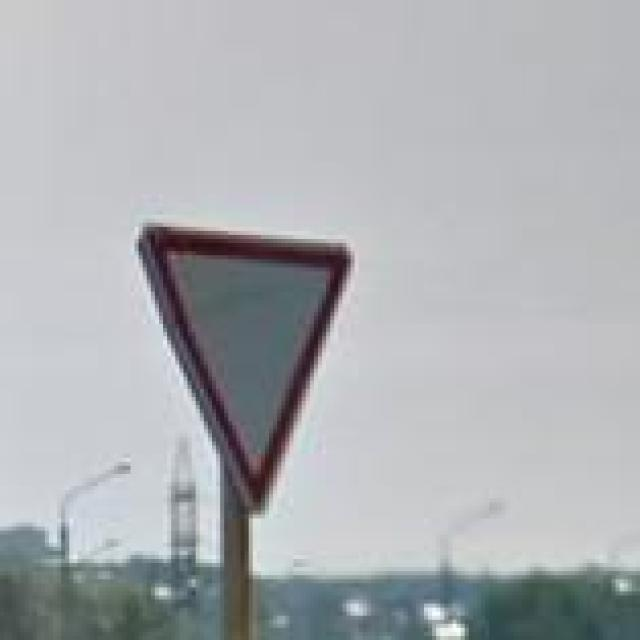give_way: (138, 223, 346, 514)
